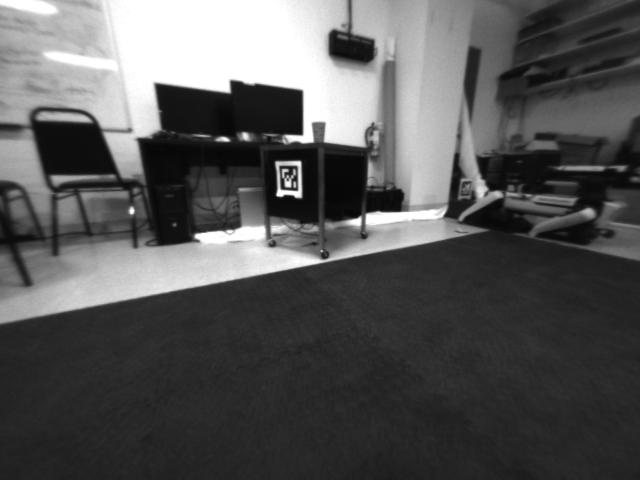coffee_cup: (309, 120, 328, 142)
